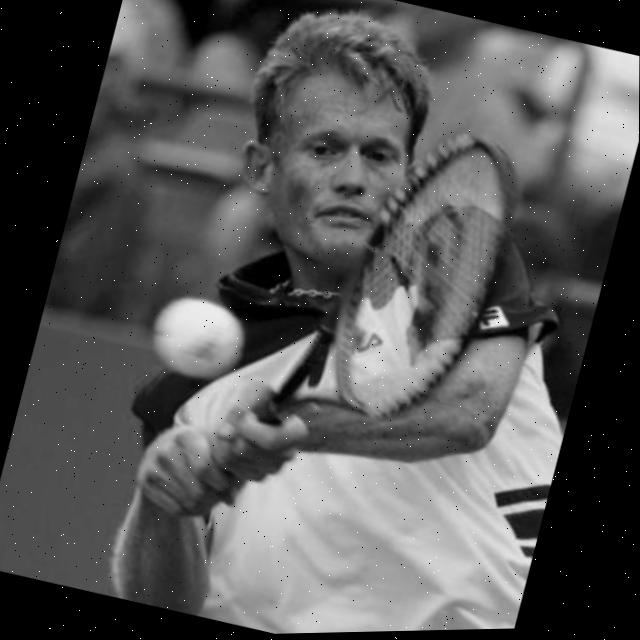face: (198, 0, 452, 303)
